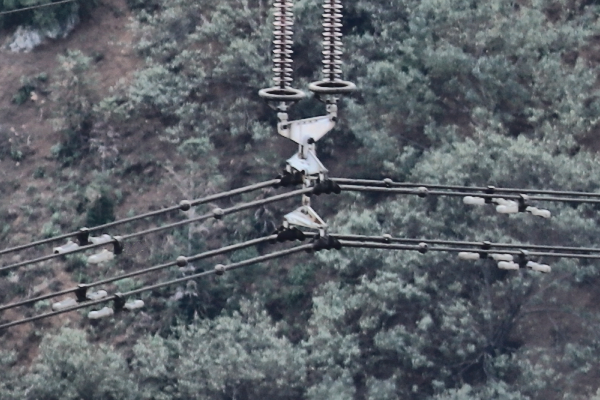damper: (87, 291, 145, 323), (52, 225, 112, 254), (50, 282, 108, 312), (496, 193, 552, 220), (496, 250, 553, 275), (456, 239, 513, 262), (460, 184, 515, 205)
damper_defect: (86, 234, 128, 265)
